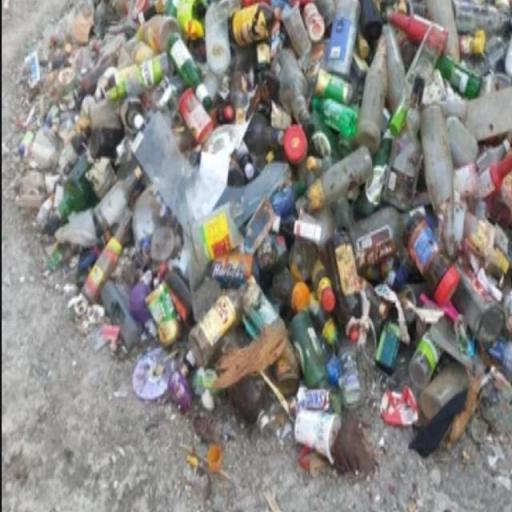glass: (406, 212, 462, 307), (288, 306, 337, 412), (447, 262, 506, 342), (186, 288, 242, 369), (324, 228, 370, 326), (272, 48, 314, 137), (348, 203, 408, 265), (190, 204, 244, 272), (419, 316, 478, 376), (460, 209, 510, 279), (382, 126, 423, 210), (356, 36, 386, 150), (352, 140, 394, 219), (417, 363, 469, 424), (100, 279, 143, 350), (82, 235, 126, 304), (107, 54, 167, 102), (292, 408, 342, 464), (325, 0, 359, 78), (237, 276, 281, 336), (390, 10, 450, 54), (165, 32, 207, 92), (145, 279, 183, 345), (92, 177, 134, 235), (75, 50, 122, 100), (382, 22, 408, 112), (309, 106, 349, 164), (294, 199, 338, 250), (434, 53, 482, 99), (177, 88, 215, 146), (60, 156, 96, 217), (228, 373, 270, 425), (360, 283, 398, 340), (204, 0, 232, 76), (229, 2, 274, 48), (407, 330, 442, 389), (394, 282, 433, 334), (309, 253, 341, 316), (454, 1, 508, 35), (280, 2, 312, 59), (270, 336, 300, 396), (444, 115, 479, 166), (244, 112, 283, 157), (307, 292, 338, 346), (138, 14, 182, 52), (336, 342, 362, 406), (27, 126, 63, 172), (163, 266, 193, 321), (228, 60, 255, 117), (85, 93, 123, 133), (84, 157, 118, 201), (375, 320, 402, 374), (255, 230, 287, 274), (474, 140, 509, 180), (288, 237, 318, 283), (87, 125, 124, 161), (174, 0, 208, 39), (356, 0, 383, 45), (487, 336, 512, 384), (270, 266, 298, 308), (168, 369, 194, 412), (270, 184, 298, 220), (58, 138, 83, 176), (226, 153, 247, 187), (256, 38, 272, 74)
